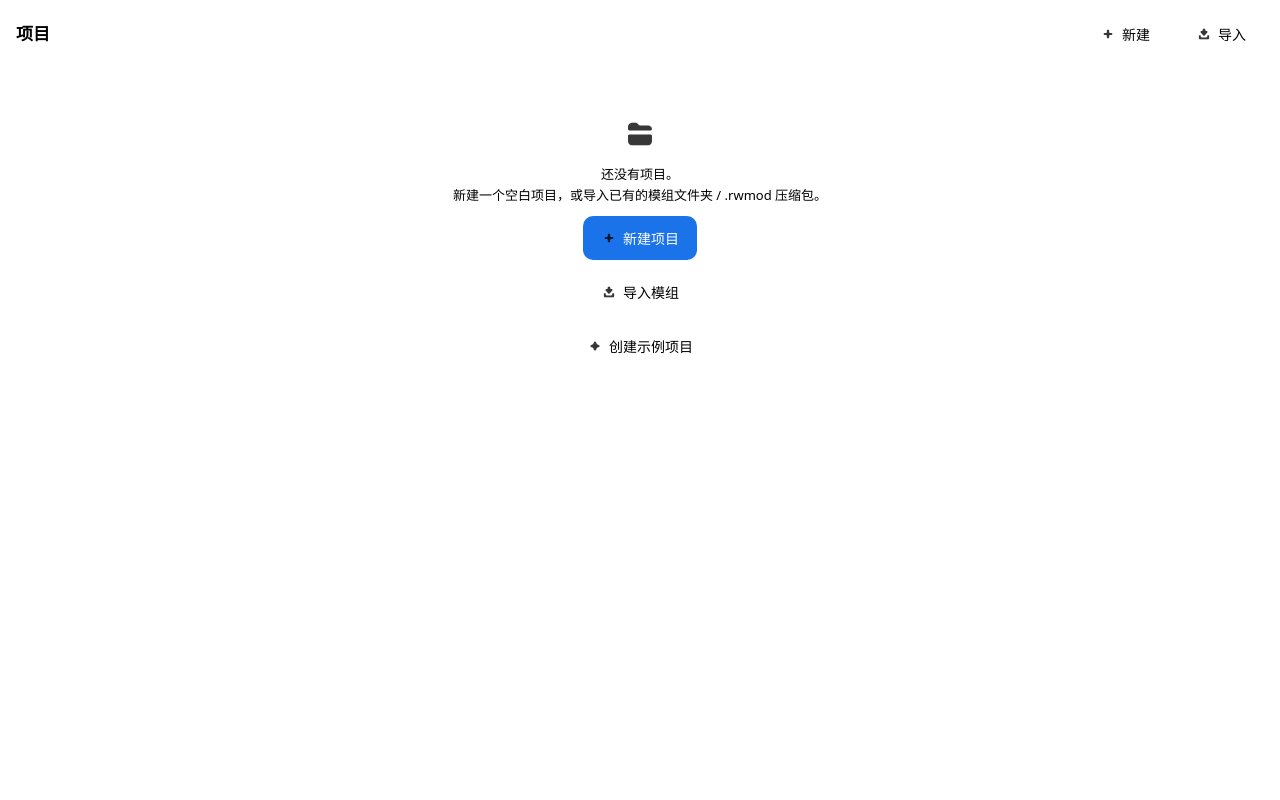
Test: 项目页：空状态与新建 › 新建项目写入最小 mod-info.txt 并登记到列表
The image size is (1280, 800).
Step 1. Click the button "新建项目" → (640, 238), box [583,216,697,260]
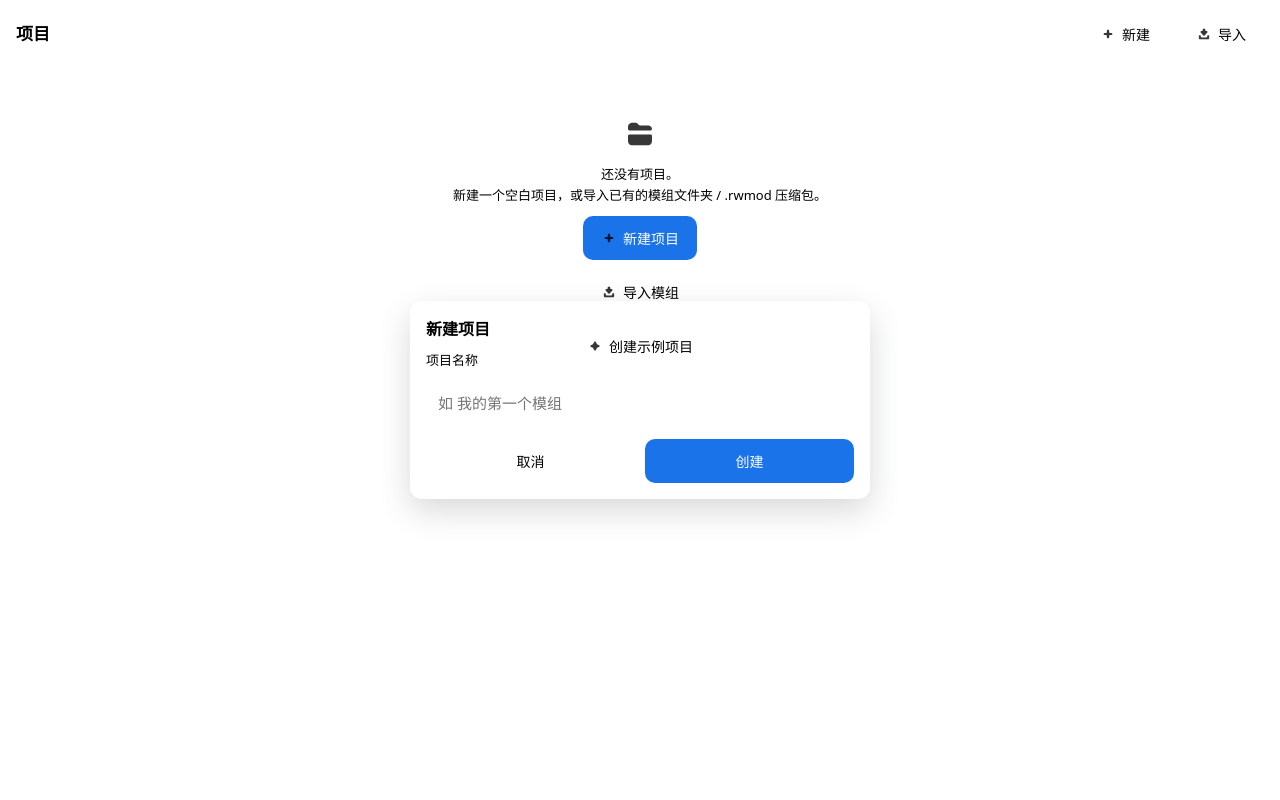
Step 2. Type "我的模组" into the field → (640, 403), box [426,381,854,425]
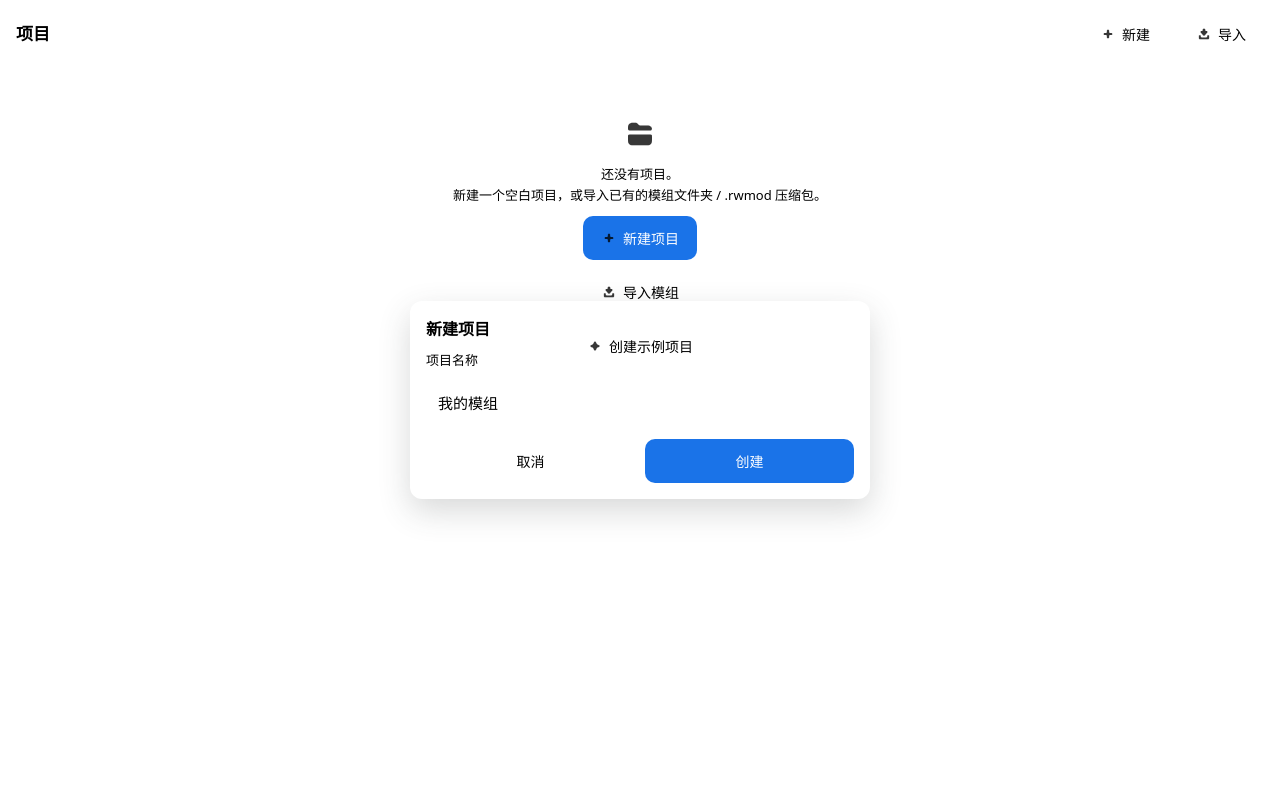
Step 3. Click the button "创建" → (750, 461), box [645,439,854,483]
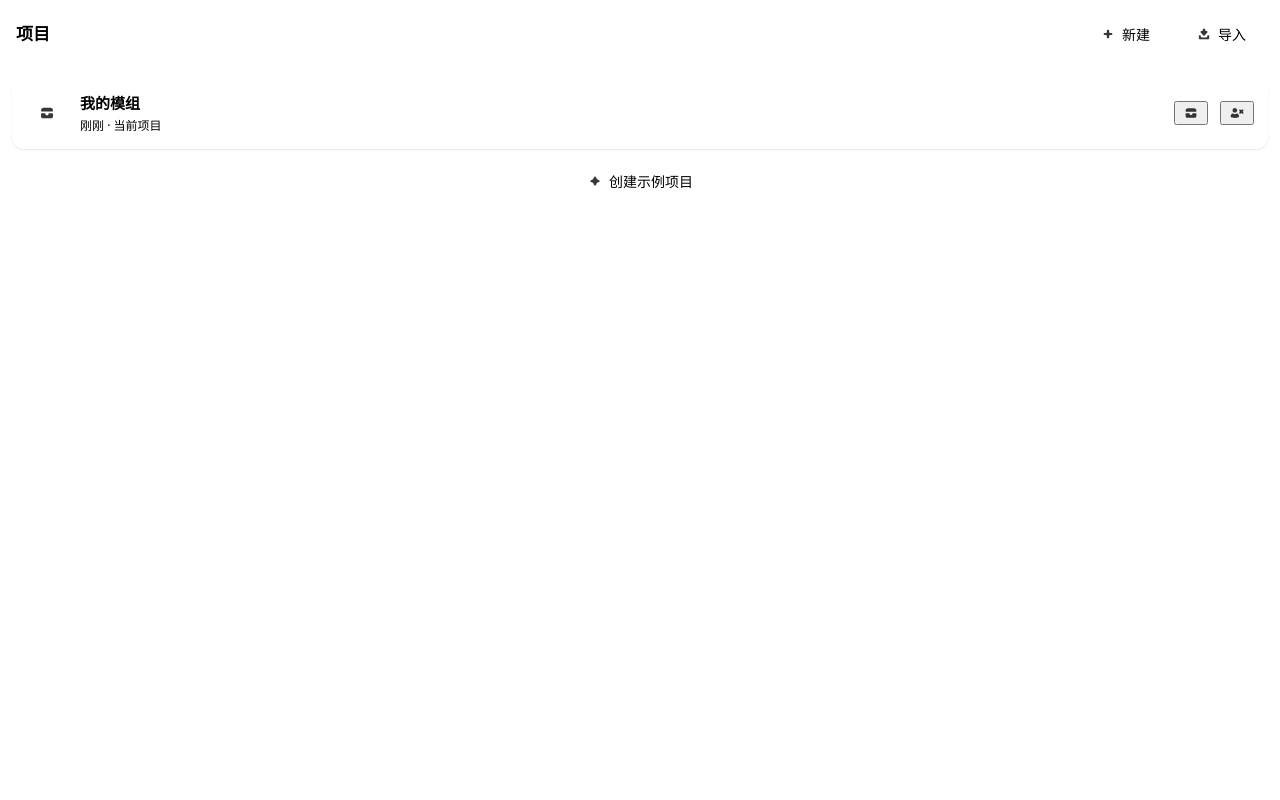
Expected: the text "我的模组" is shown, [80,93,140,113]
